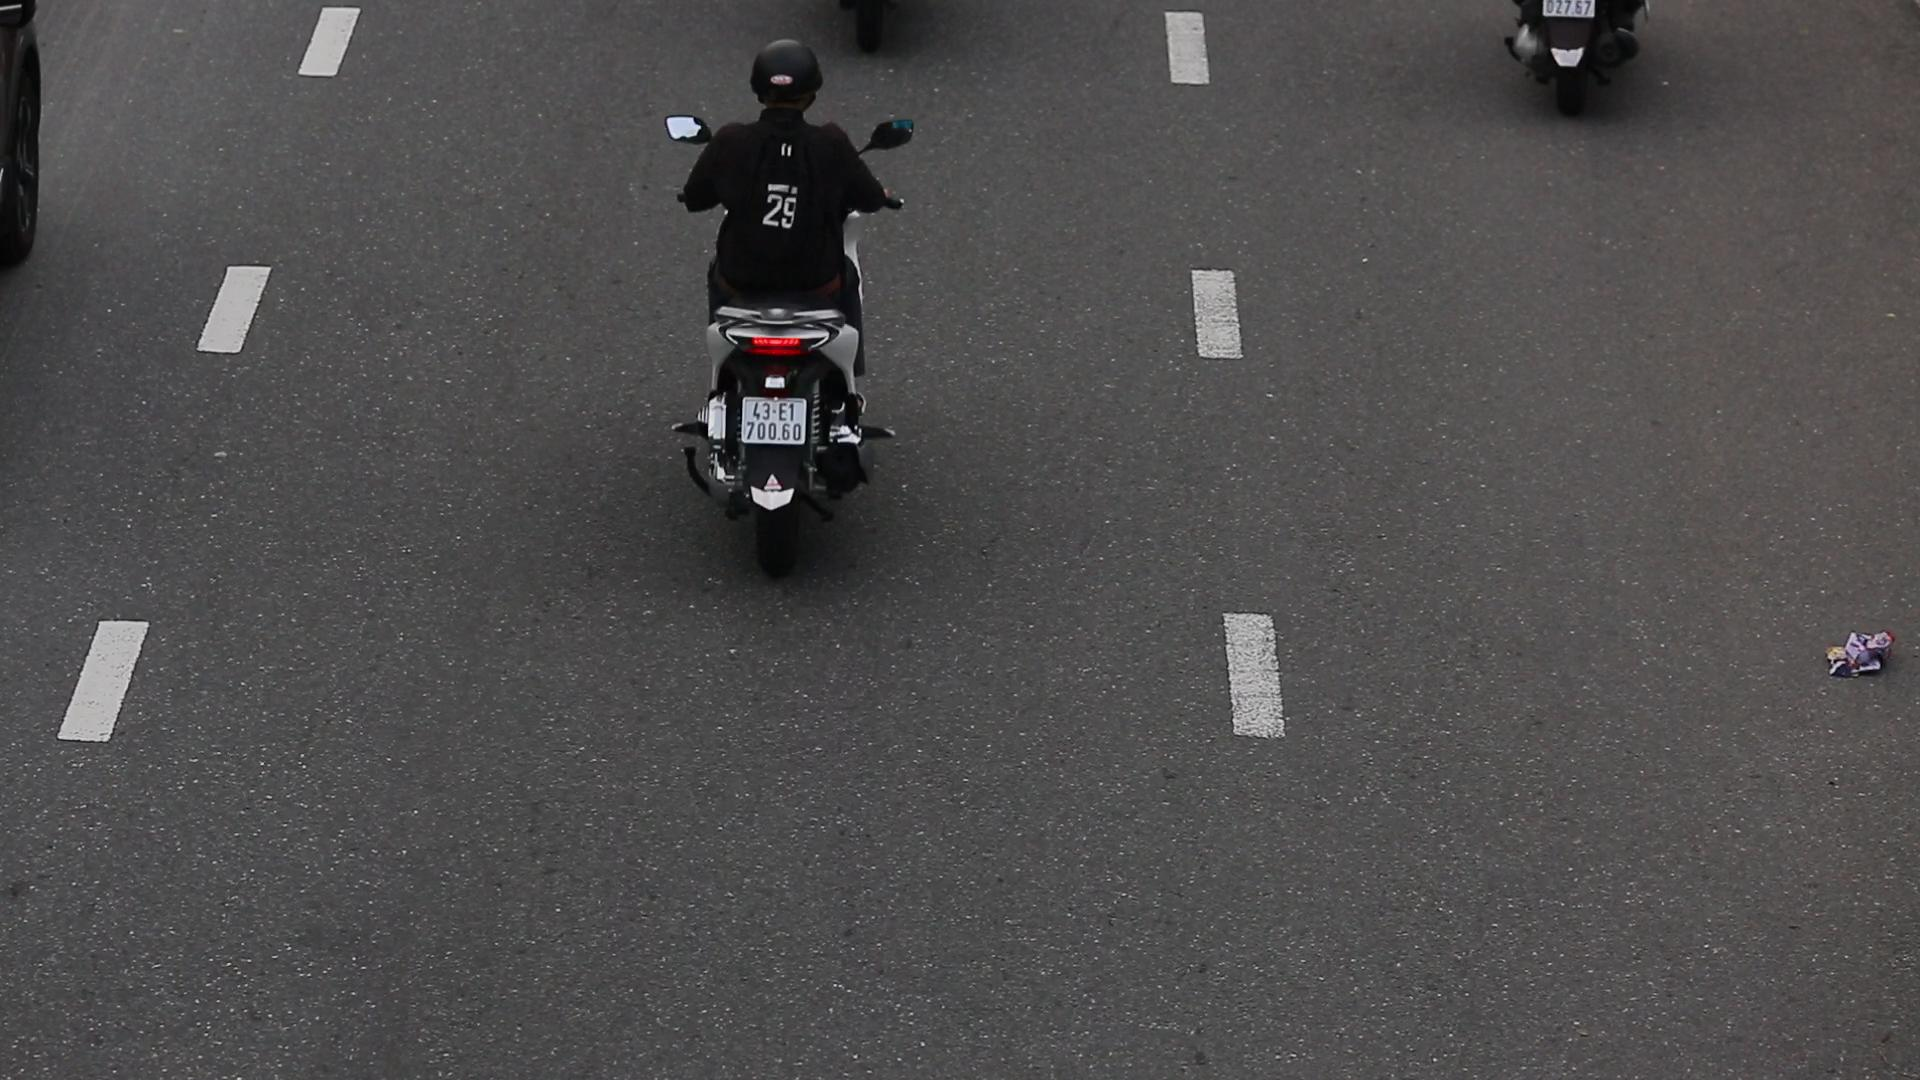motobike: (644, 37, 930, 645)
